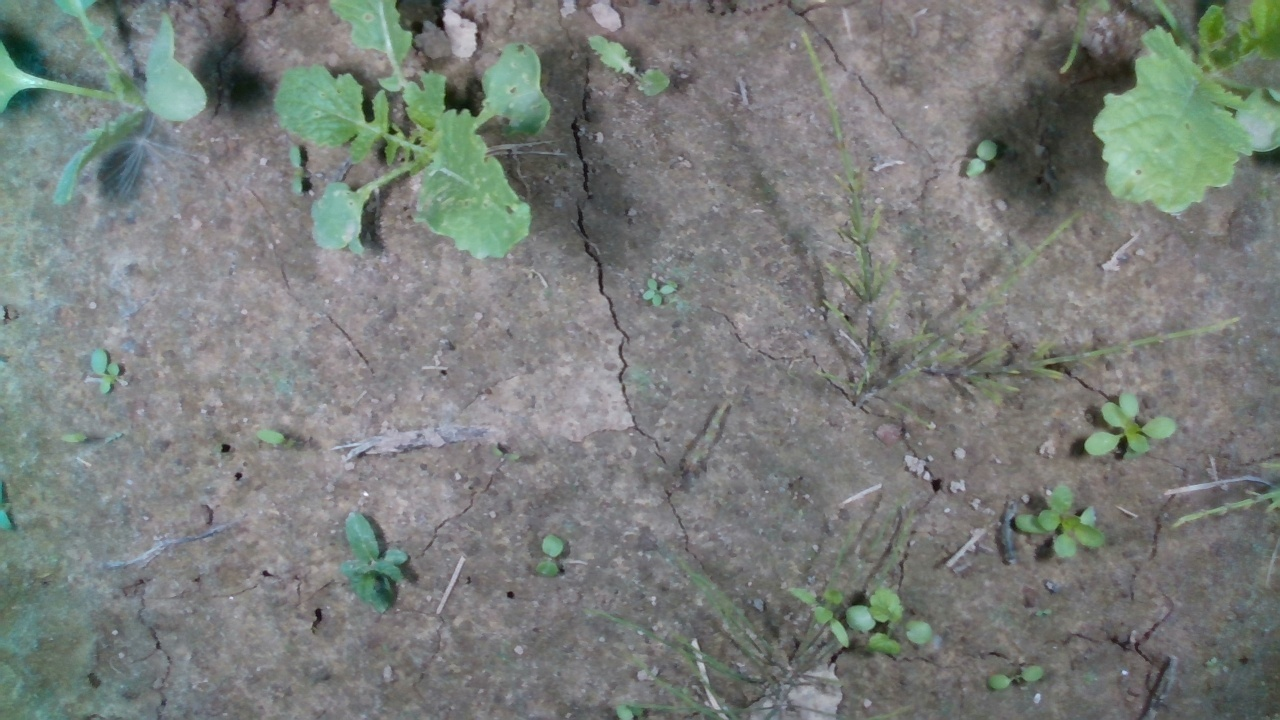weed: (87, 346, 122, 394), (985, 664, 1045, 690), (964, 138, 1000, 180), (533, 532, 564, 579), (641, 278, 679, 308)
